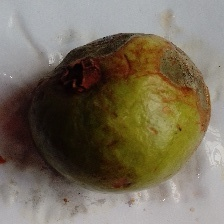guava: (32, 21, 197, 209)
